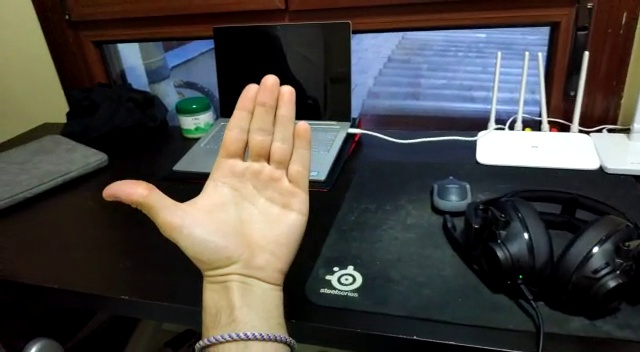Palm: (99, 72, 321, 294)
